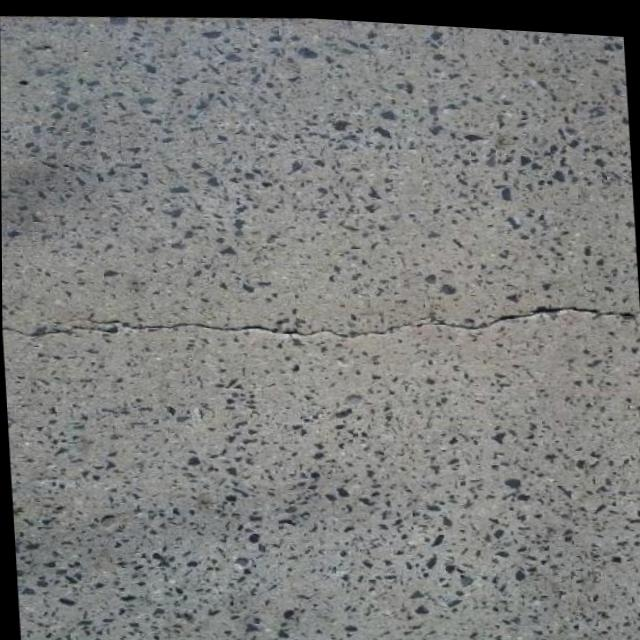Crack: (1, 257, 638, 371)
